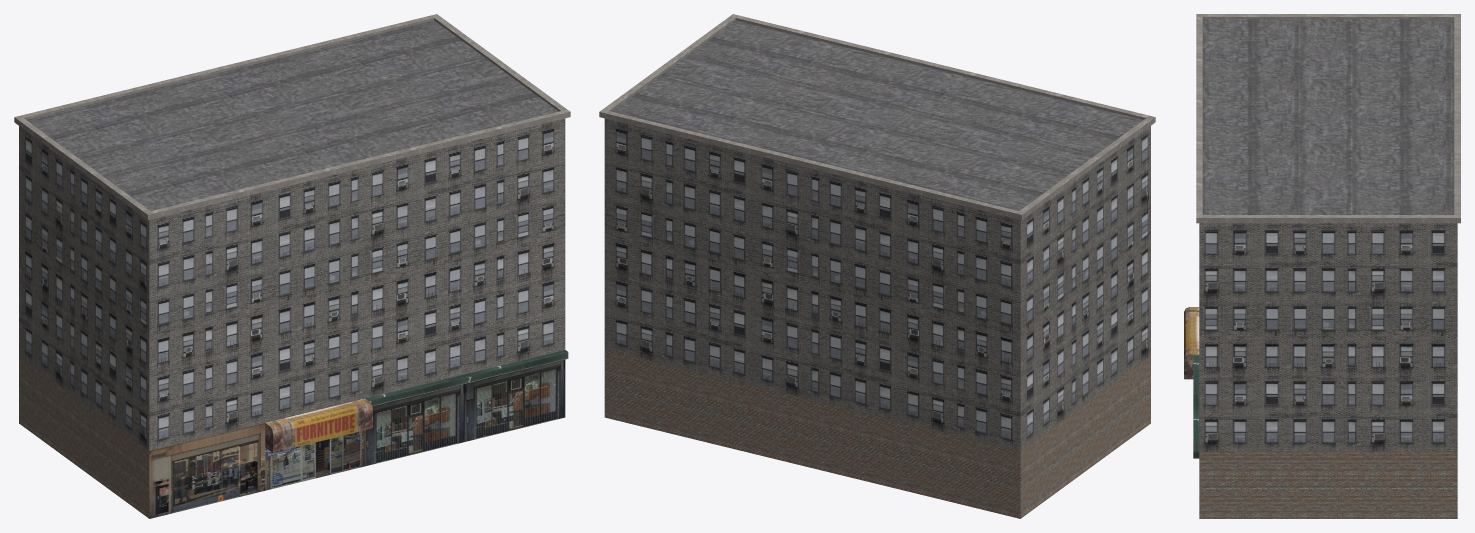
Rendered from building_02.glb.
3 views of the same model, side by side, from view 1: azimuth 30°, elevation 25°; view 2: azimuth 150°, elevation 25°; view 3: azimuth 270°, elevation 25° (orthographic).
Parts seen in each view (by area): view 1: building_02_mesh; view 2: building_02_mesh; view 3: building_02_mesh.
Boxes of the visible parts, x1,y1,x2,y2 form: building_02_mesh: (14,14,570,518); building_02_mesh: (599,14,1155,518); building_02_mesh: (1184,14,1460,518).
Bounding box in the file's own units: 34.05 × 23.55 × 19.51.
7 materials, 7 textured.
